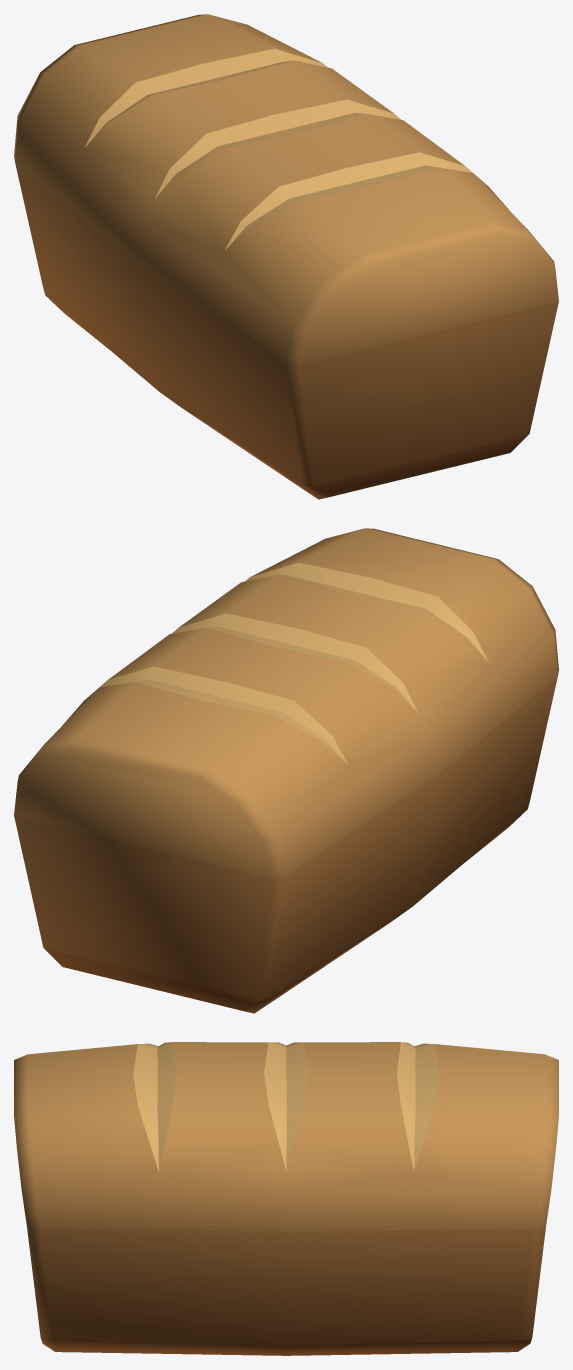
Rendered from Bread_1_A_001.glb.
The picture shows the model from 3 angles, top to bottom: view 1: azimuth 30°, elevation 25°; view 2: azimuth 150°, elevation 25°; view 3: azimuth 270°, elevation 25°; orthographic projection. The views are drawn at different scales.
Parts seen in each view (by area): view 1: Bread_1_A.001; view 2: Bread_1_A.001; view 3: Bread_1_A.001.
Part boxes in pixels (x1,y1,x2,y2): Bread_1_A.001: (14,14,558,499); Bread_1_A.001: (14,528,558,1013); Bread_1_A.001: (14,1042,558,1355).
Size of the model in its own units: 0.2297 by 0.1874 by 0.3914.
Materials: 1 (1 with a texture image).
